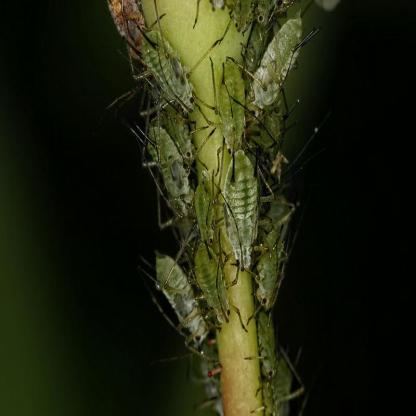aphid: (148, 242, 216, 360), (136, 122, 201, 228), (220, 144, 270, 279), (131, 26, 198, 119), (254, 15, 308, 123), (254, 184, 296, 316), (208, 53, 258, 156), (254, 293, 286, 387), (190, 347, 227, 416)
